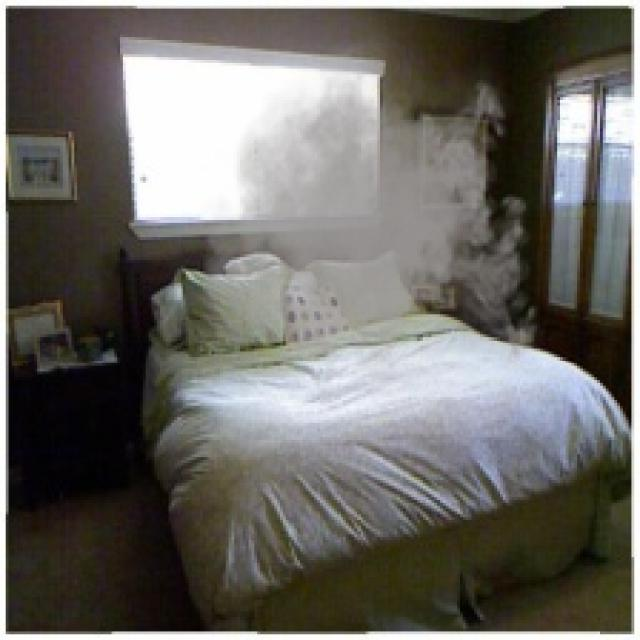smoke: (197, 23, 549, 420)
